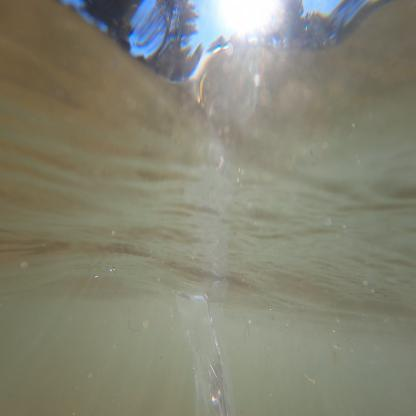Rác: (172, 280, 238, 414)
